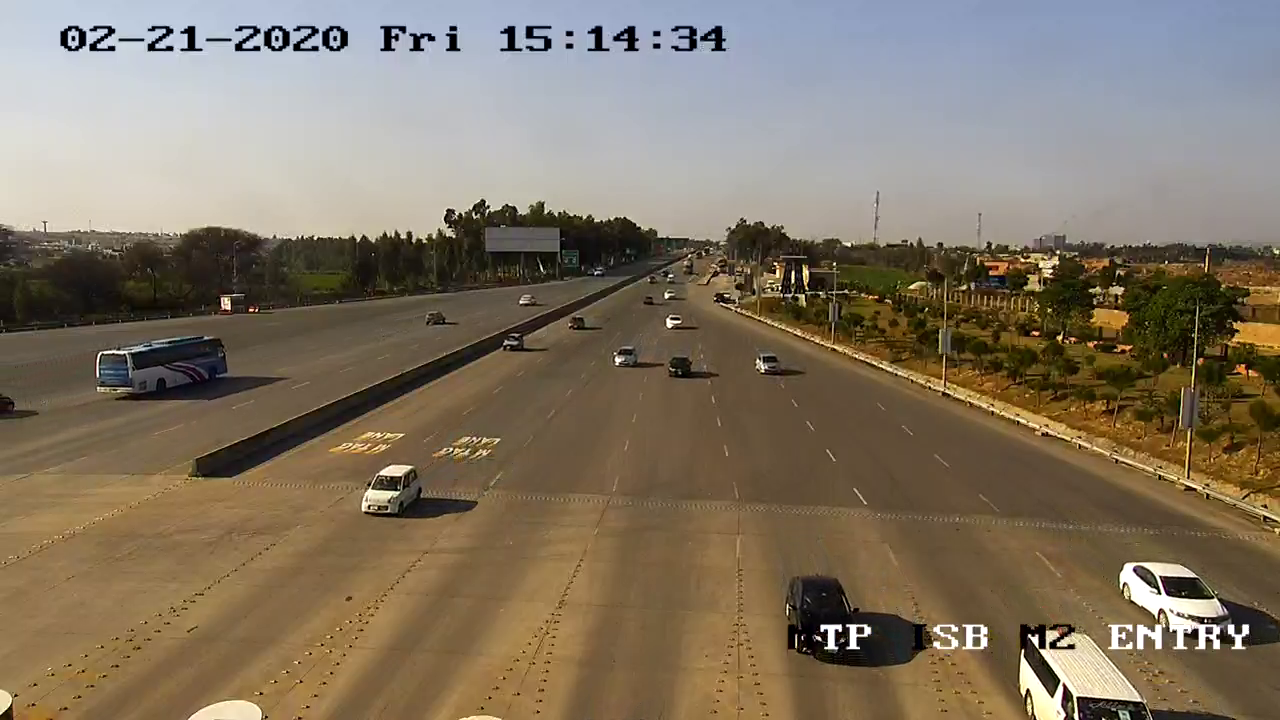f1: (356, 459, 430, 523)
